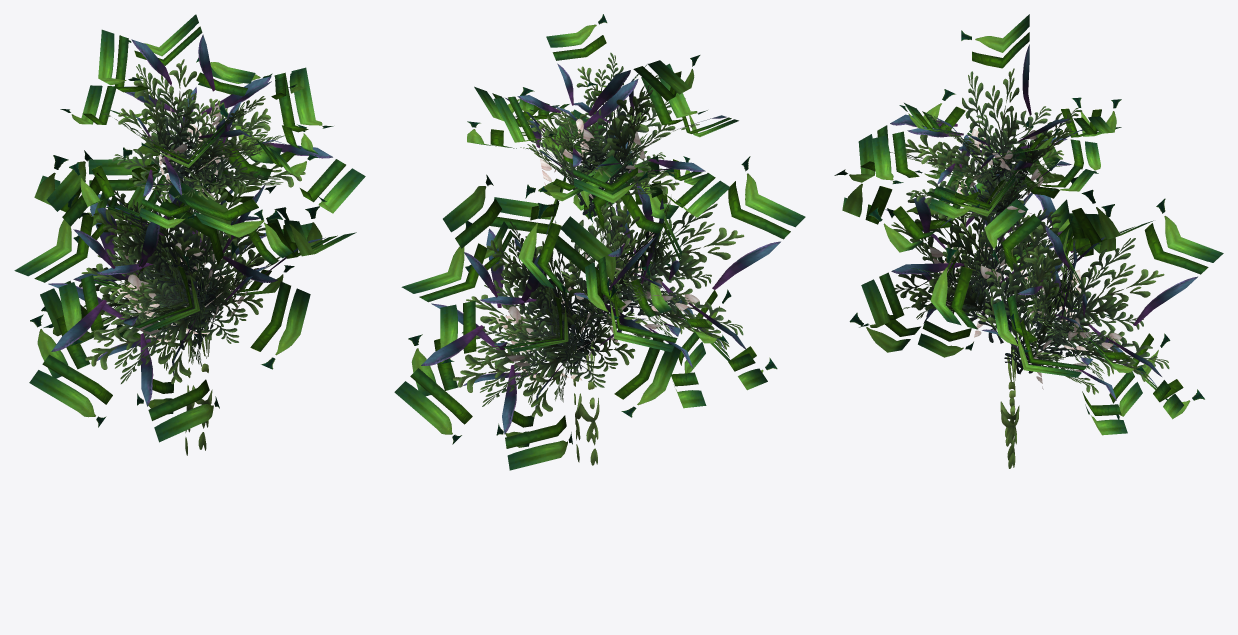
File: S_Tree_Green050.FBX
3 views of the same model, side by side, from view 1: azimuth 30°, elevation 25°; view 2: azimuth 150°, elevation 25°; view 3: azimuth 270°, elevation 25° (orthographic). The views are drawn at different scales.
Visible parts, largest first — view 1: S_Tree_Green050; view 2: S_Tree_Green050; view 3: S_Tree_Green050.
Part boxes in pixels (x1=…): S_Tree_Green050: x1=14, y1=14, x2=365, y2=455; S_Tree_Green050: x1=394, y1=14, x2=805, y2=470; S_Tree_Green050: x1=834, y1=14, x2=1223, y2=468.
Size of the model in its own units: 744 by 810 by 1287.
